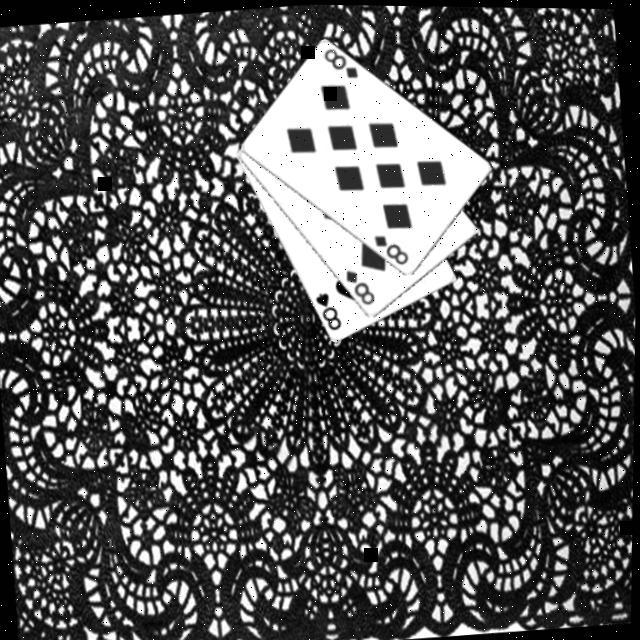8D: (340, 262, 378, 307), (369, 227, 410, 268), (318, 42, 359, 82)
8S: (309, 286, 344, 332)
